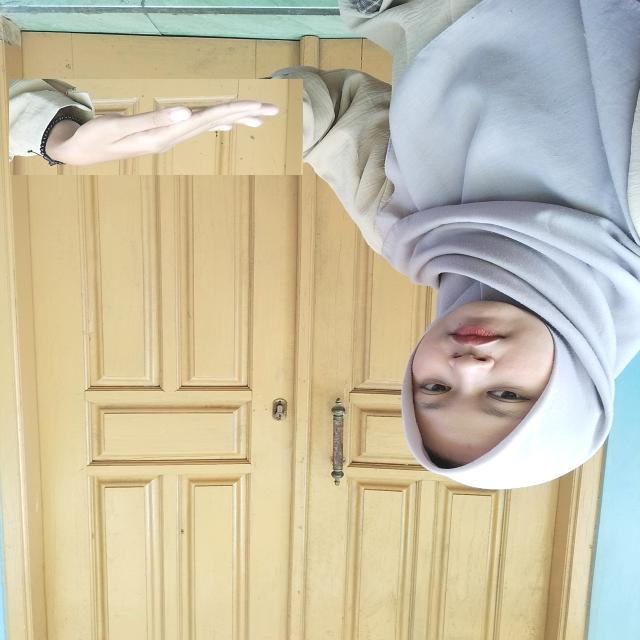adik: (9, 79, 303, 175)
